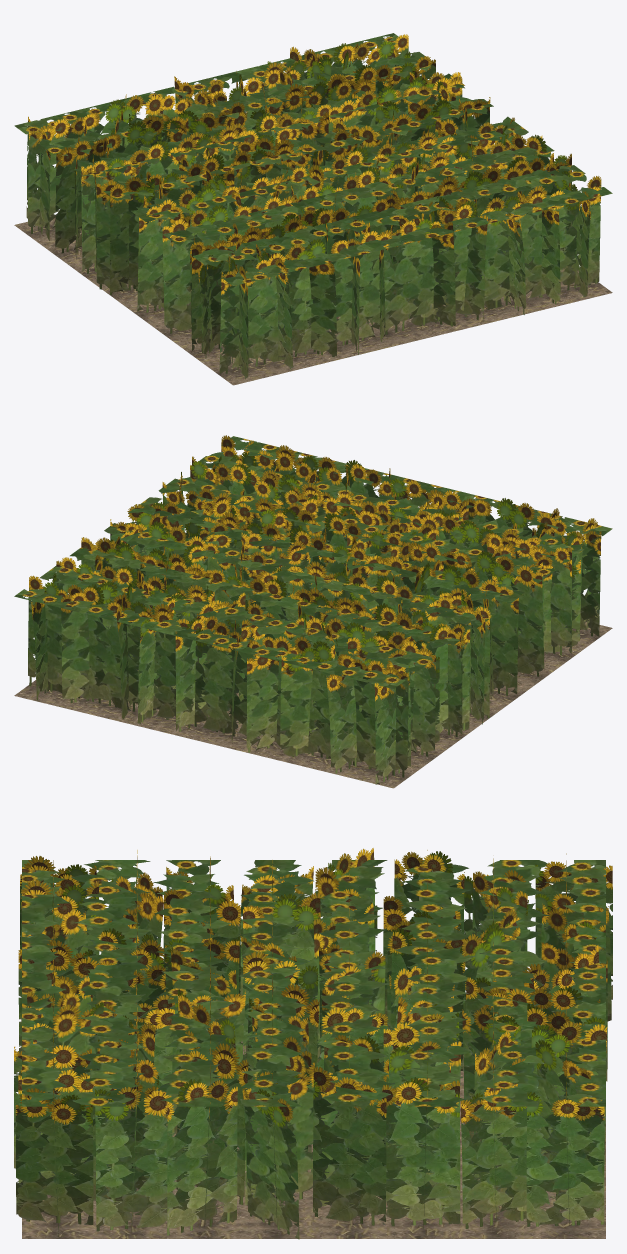
File: crop_sunflower_patch.glb
The picture shows the model from 3 angles, top to bottom: view 1: azimuth 30°, elevation 25°; view 2: azimuth 150°, elevation 25°; view 3: azimuth 270°, elevation 25°; orthographic projection. The views are drawn at different scales.
Visible parts, largest first — view 1: crop_sunflower_patch_LOD0, crop_sunflower_patch_FAR, crop_sunflower_patch_FLOOR; view 2: crop_sunflower_patch_LOD0, crop_sunflower_patch_FAR, crop_sunflower_patch_FLOOR; view 3: crop_sunflower_patch_LOD0, crop_sunflower_patch_FAR, crop_sunflower_patch_FLOOR.
Part boxes in pixels (x1,y1,x2,y2): crop_sunflower_patch_LOD0: (26,34,601,379); crop_sunflower_patch_FAR: (14,33,612,338); crop_sunflower_patch_FLOOR: (14,217,612,385); crop_sunflower_patch_LOD0: (28,435,601,784); crop_sunflower_patch_FAR: (14,436,612,721); crop_sunflower_patch_FLOOR: (14,622,612,788); crop_sunflower_patch_LOD0: (14,848,612,1239); crop_sunflower_patch_FAR: (22,860,605,1106); crop_sunflower_patch_FLOOR: (22,1024,605,1238).
Size of what is drawn, in the model's own units: 6.16 by 1.99 by 6.15.
Materials: 2 (2 with a texture image).
